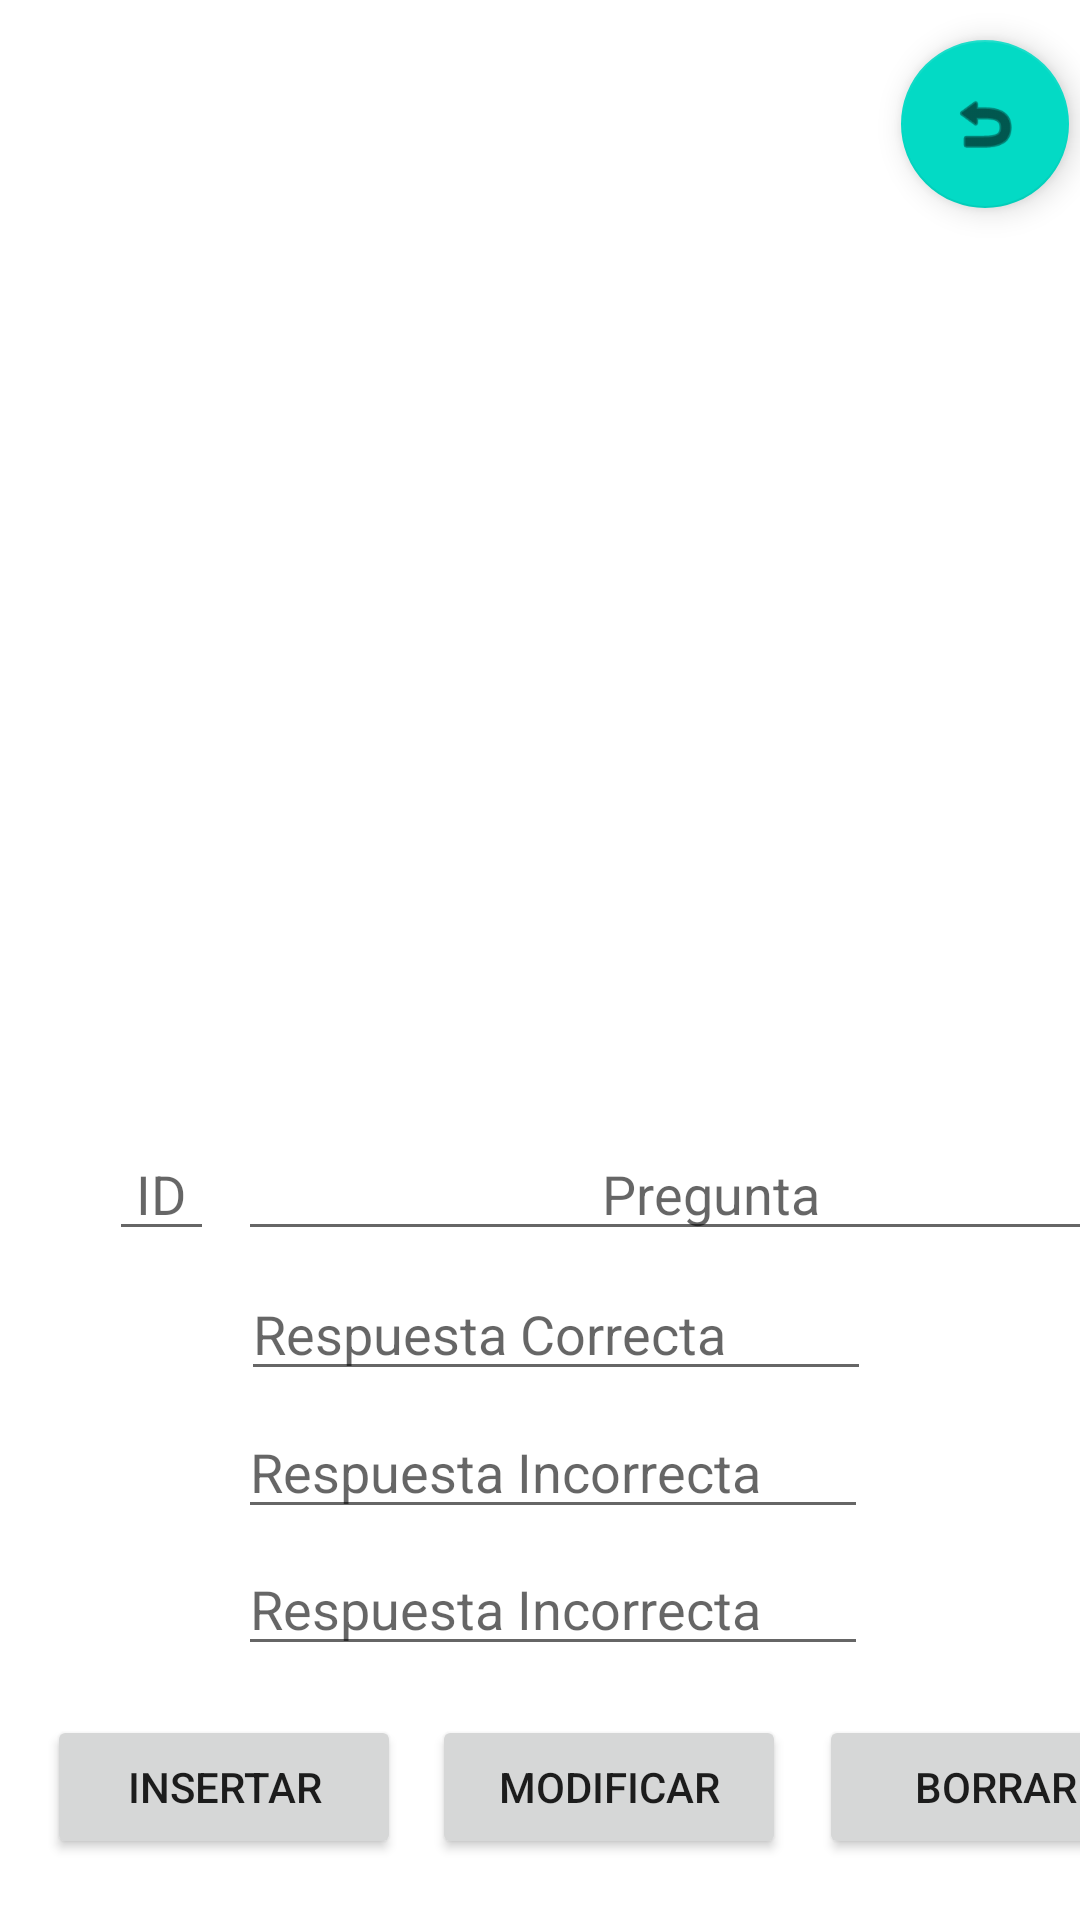

Screen size 1080x1920. Icon name, then its box in pixels as (x1=x1, y1=y1, x2=x2, y2=y2):
revert: (x1=901, y1=40, x2=1069, y2=208)
